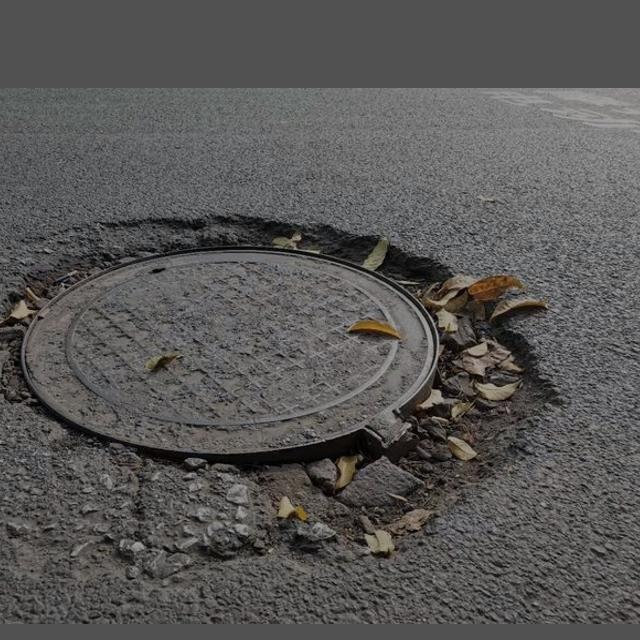circle: (0, 213, 544, 565)
